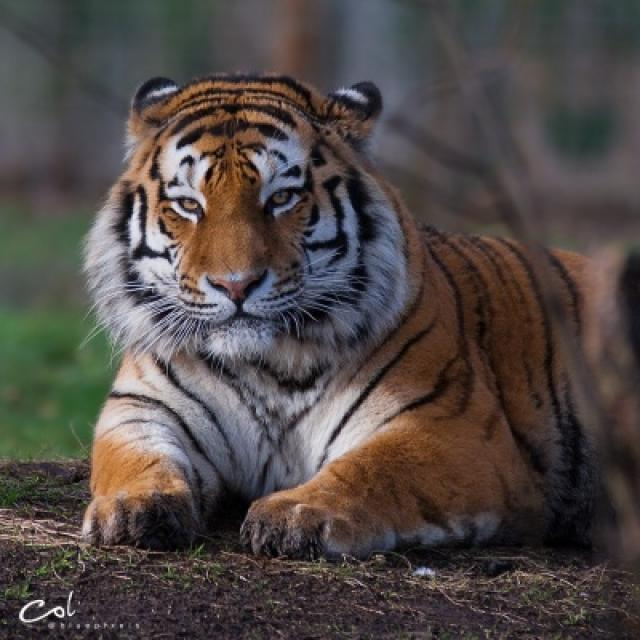Tiger: (82, 75, 603, 543)
